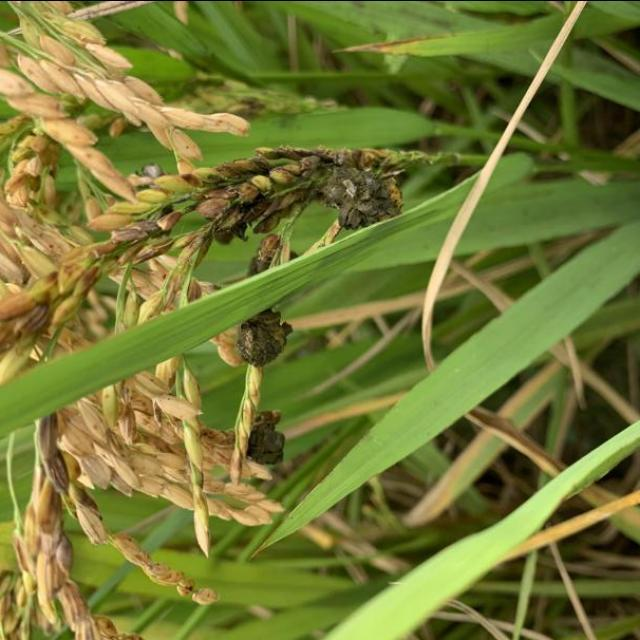Leaf_Scald: (326, 162, 402, 232), (234, 308, 294, 368), (242, 410, 286, 468)
